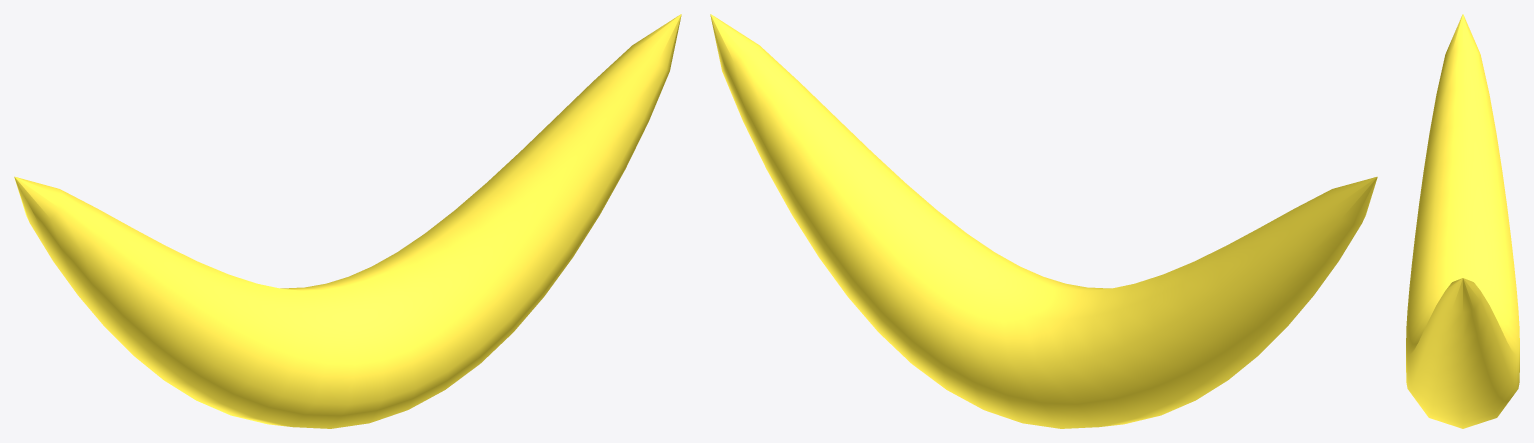
Rendered from banana.gltf.
3 renders of one model, left to right at view 1: azimuth 30°, elevation 25°; view 2: azimuth 150°, elevation 25°; view 3: azimuth 270°, elevation 25°, orthographic. The views are drawn at different scales.
Parts seen in each view (by area): view 1: banana; view 2: banana; view 3: banana.
Part boxes in pixels (bbox=[...]): banana: bbox=[14, 14, 681, 428]; banana: bbox=[710, 14, 1377, 428]; banana: bbox=[1406, 14, 1519, 428].
Bounding box in the file's own units: 0.2302 × 0.1071 × 0.0418.
